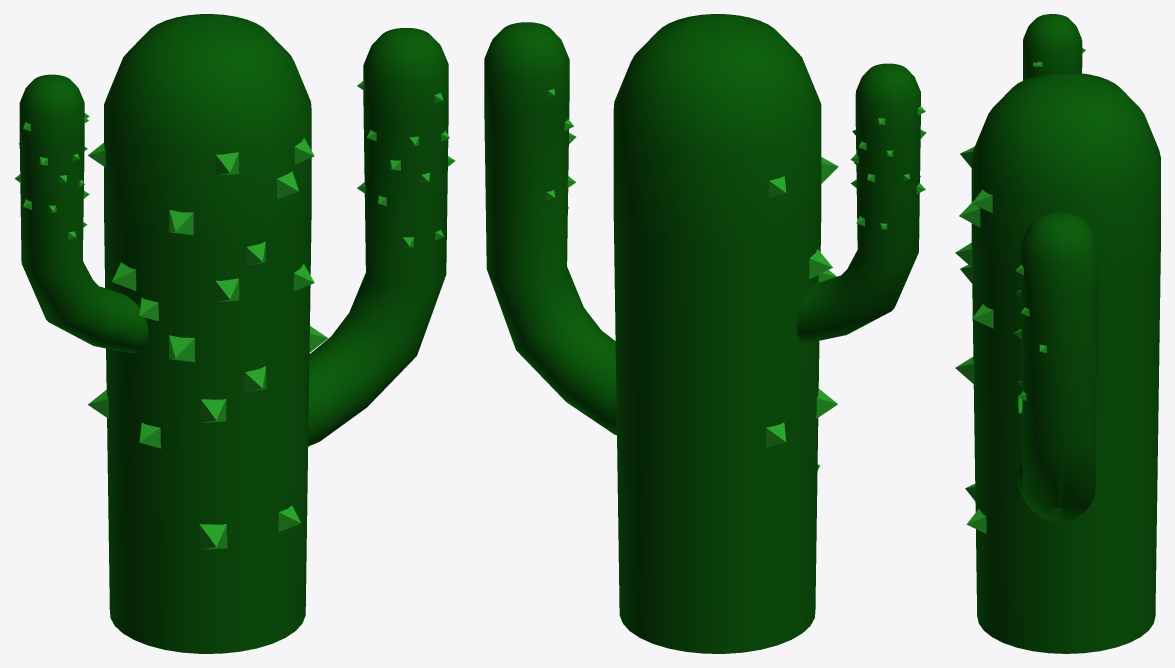
The model's file is Cactos.fbx.
The picture shows the model from 3 angles, left to right: view 1: azimuth 30°, elevation 25°; view 2: azimuth 150°, elevation 25°; view 3: azimuth 270°, elevation 25°; orthographic projection. The views are drawn at different scales.
Parts seen in each view (by area): view 1: Circle; view 2: Circle; view 3: Circle.
Boxes of the visible parts, <box> form: Circle: <box>14,14,455,653</box>; Circle: <box>484,14,926,653</box>; Circle: <box>955,14,1160,653</box>.
Bounding box in the file's own units: 506 × 658 × 231.
